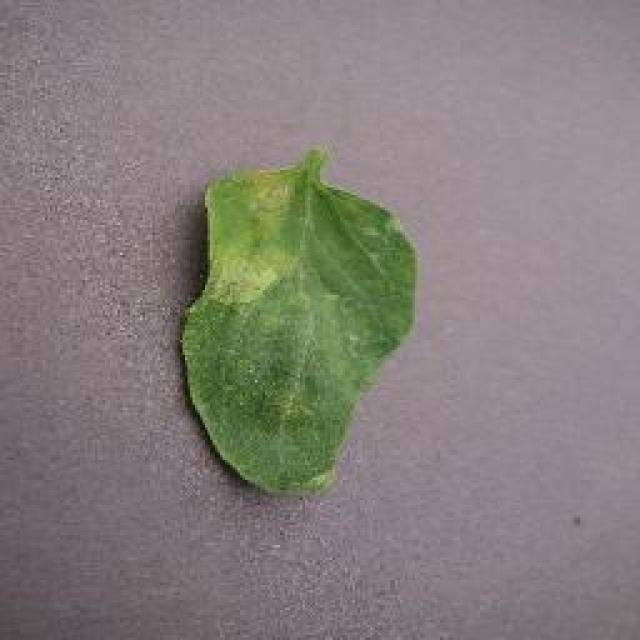Tomato late blight leaf: (178, 151, 424, 499)
